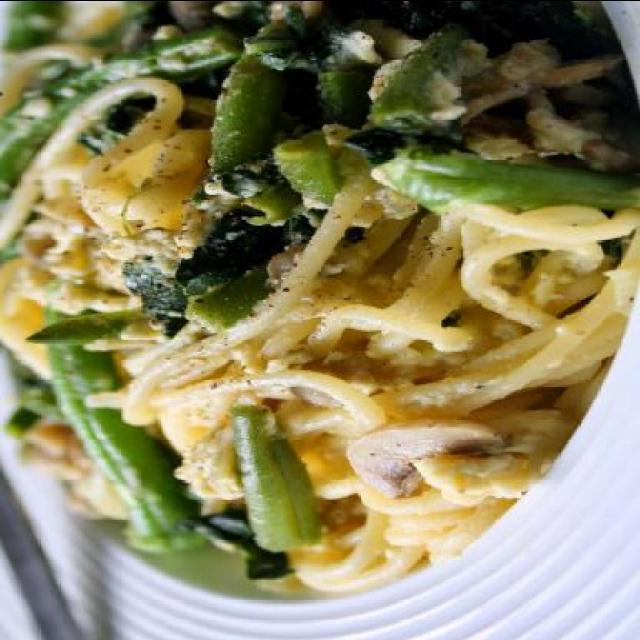Pasta with carbonara sauce: (24, 24, 612, 596)
